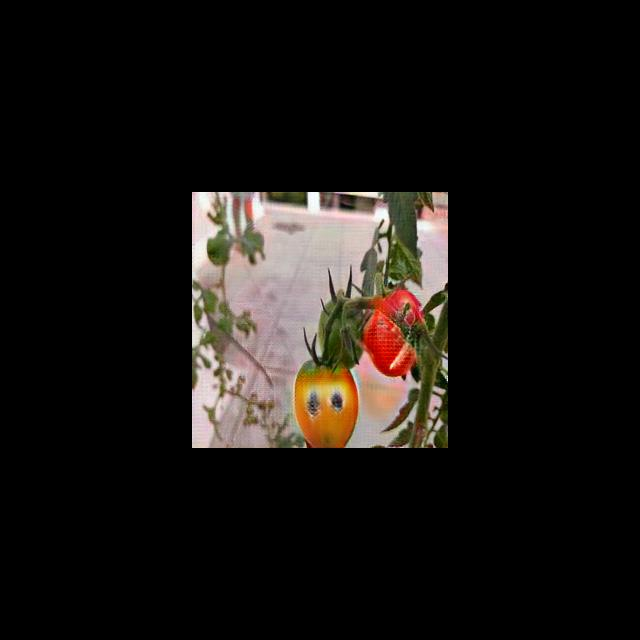tomato: (293, 360, 360, 448)
